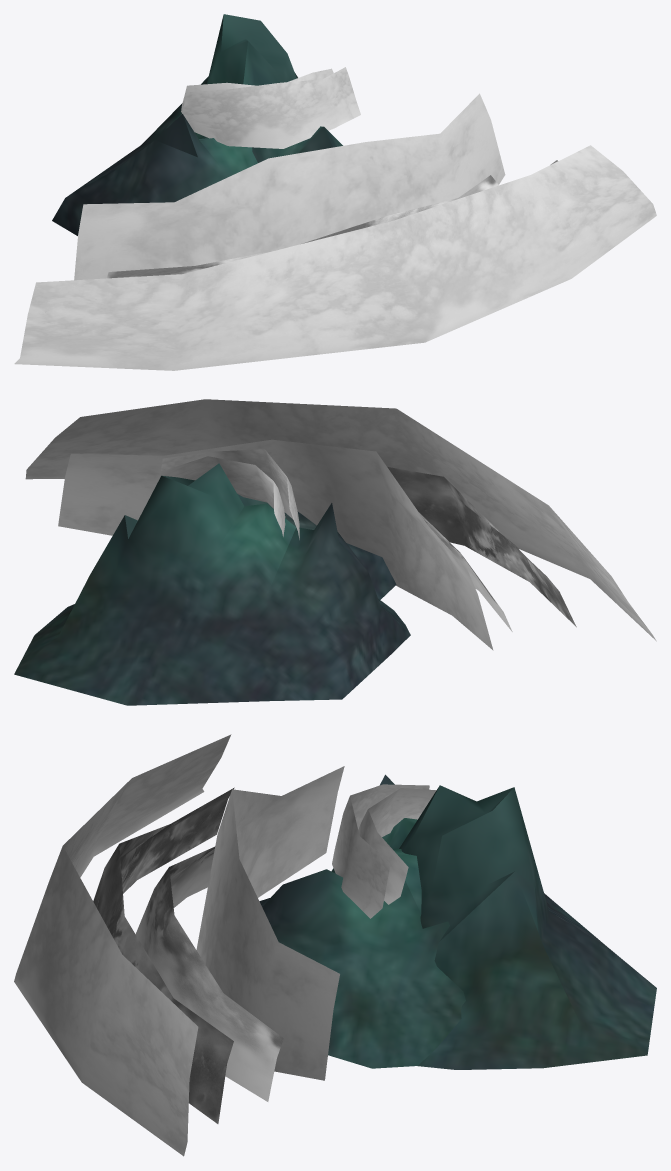
Rendered from pir_m_are_isl_mysterious_03_dock_lod.fbx.
3 views of the same model, one above another, from view 1: azimuth 30°, elevation 25°; view 2: azimuth 150°, elevation 25°; view 3: azimuth 270°, elevation 25° (orthographic). The views are drawn at different scales.
Visible parts, largest first — view 1: base_fog, base_fog3, hill1, base_fog2, base_fog5, hill, base_fog6; view 2: hill1, base_fog, base_fog3, base_fog4, base_fog6, base_fog2, hill, base_fog5; view 3: hill1, base_fog, base_fog3, hill, base_fog5, base_fog4, base_fog2, base_fog6.
Boxes of the visible parts, box(x1,y1,x2,y2) form: base_fog: box(14, 145, 656, 370); base_fog3: box(74, 93, 505, 280); hill1: box(52, 14, 297, 235); base_fog2: box(182, 67, 360, 148); base_fog5: box(107, 175, 498, 278); hill: box(252, 126, 342, 162); base_fog6: box(181, 68, 333, 112); hill1: box(14, 463, 410, 705); base_fog: box(25, 399, 656, 641); base_fog3: box(58, 439, 493, 650); base_fog4: box(387, 467, 576, 627); base_fog6: box(160, 456, 285, 536); base_fog2: box(160, 449, 299, 539); hill: box(237, 494, 396, 599); base_fog5: box(419, 512, 512, 631); hill1: box(331, 774, 656, 1069); base_fog: box(14, 734, 231, 1156); base_fog3: box(196, 766, 344, 1080); hill: box(259, 848, 465, 1068); base_fog5: box(135, 846, 283, 1101); base_fog4: box(93, 787, 234, 1123); base_fog2: box(332, 784, 429, 918); base_fog6: box(358, 788, 436, 904).
Size of the model in its own units: 371096 by 101480 by 276397.
Materials: 3 (3 with a texture image).
